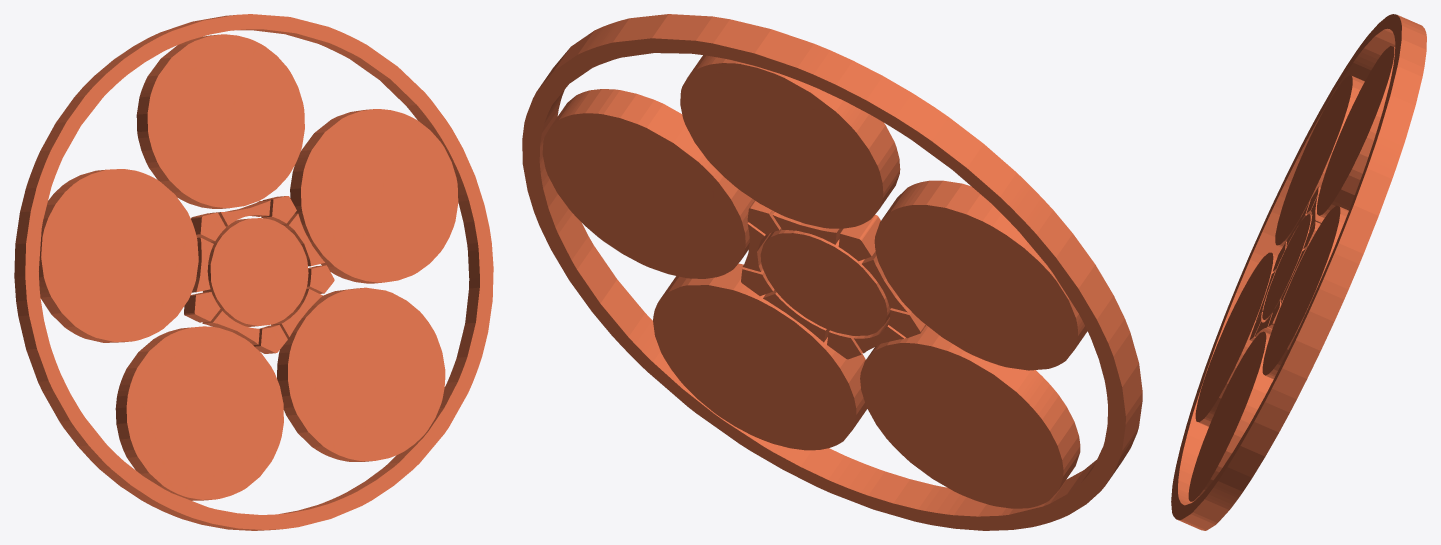
File: naka.glb
3 renders of one model, left to right at view 1: azimuth 30°, elevation 25°; view 2: azimuth 150°, elevation 25°; view 3: azimuth 270°, elevation 25°, orthographic. The views are drawn at different scales.
Parts seen in each view (by area): view 1: node_id8; view 2: node_id8; view 3: node_id8.
Part boxes in pixels (x1,y1,x2,y2): node_id8: [14, 14, 493, 530]; node_id8: [522, 14, 1142, 530]; node_id8: [1171, 14, 1426, 530].
Bounding box in the file's own units: 0.3668 × 0.3406 × 0.1702.
1 material, 1 textured.
